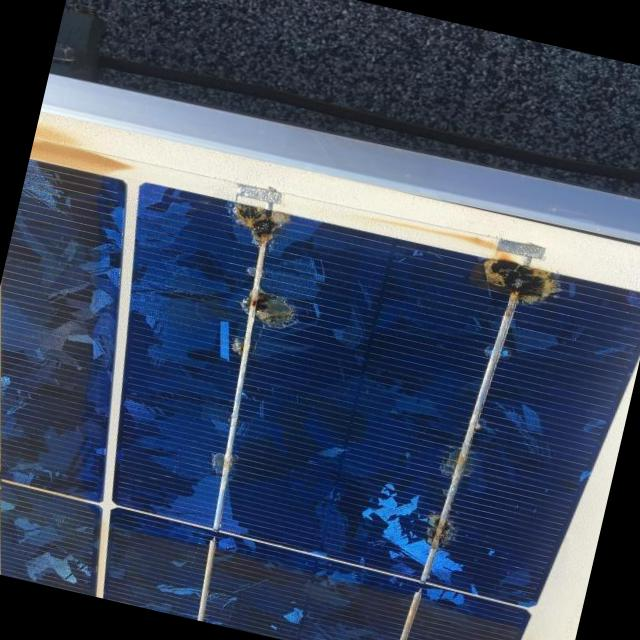faulty: (78, 0, 640, 193), (395, 406, 500, 578), (213, 265, 340, 359), (196, 175, 314, 276), (461, 240, 568, 329), (182, 418, 266, 498)
